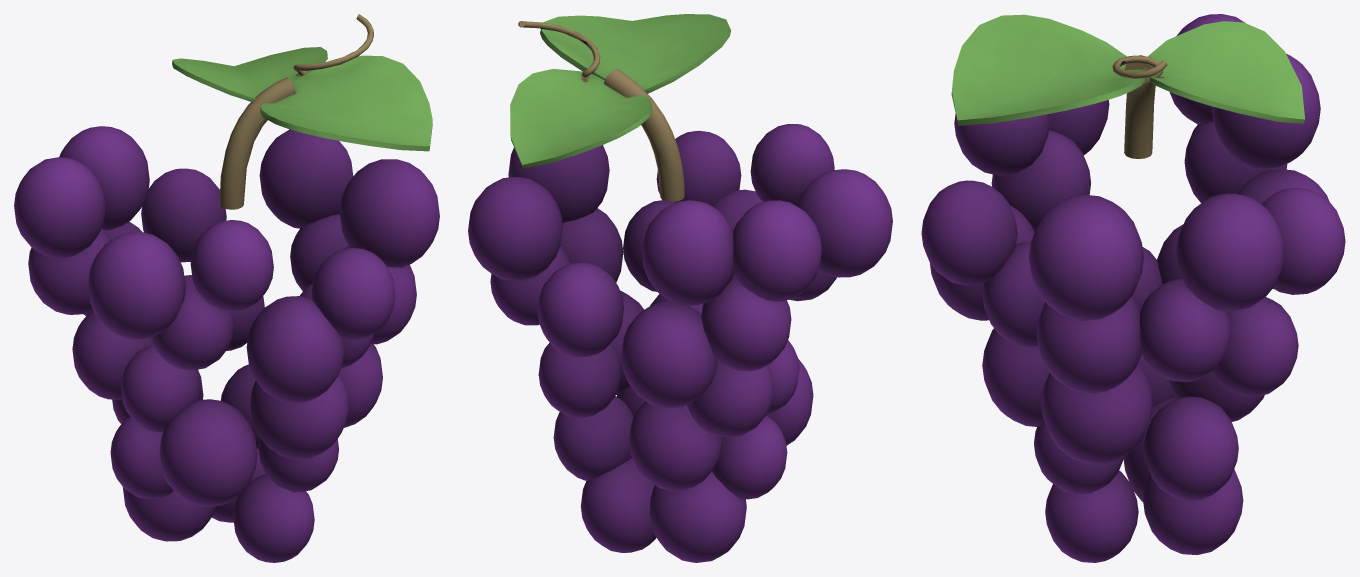
The model's file is SK_Grape.fbx.
The picture shows the model from 3 angles, left to right: view 1: azimuth 30°, elevation 25°; view 2: azimuth 150°, elevation 25°; view 3: azimuth 270°, elevation 25°; orthographic projection. The views are drawn at different scales.
Visible parts, largest first — view 1: SK_Grape; view 2: SK_Grape; view 3: SK_Grape.
Part boxes in pixels (<box>): SK_Grape: <box>14,14,439,562</box>; SK_Grape: <box>468,14,892,562</box>; SK_Grape: <box>921,14,1345,562</box>.
Bounding box in the file's own units: 533 × 707 × 483.
